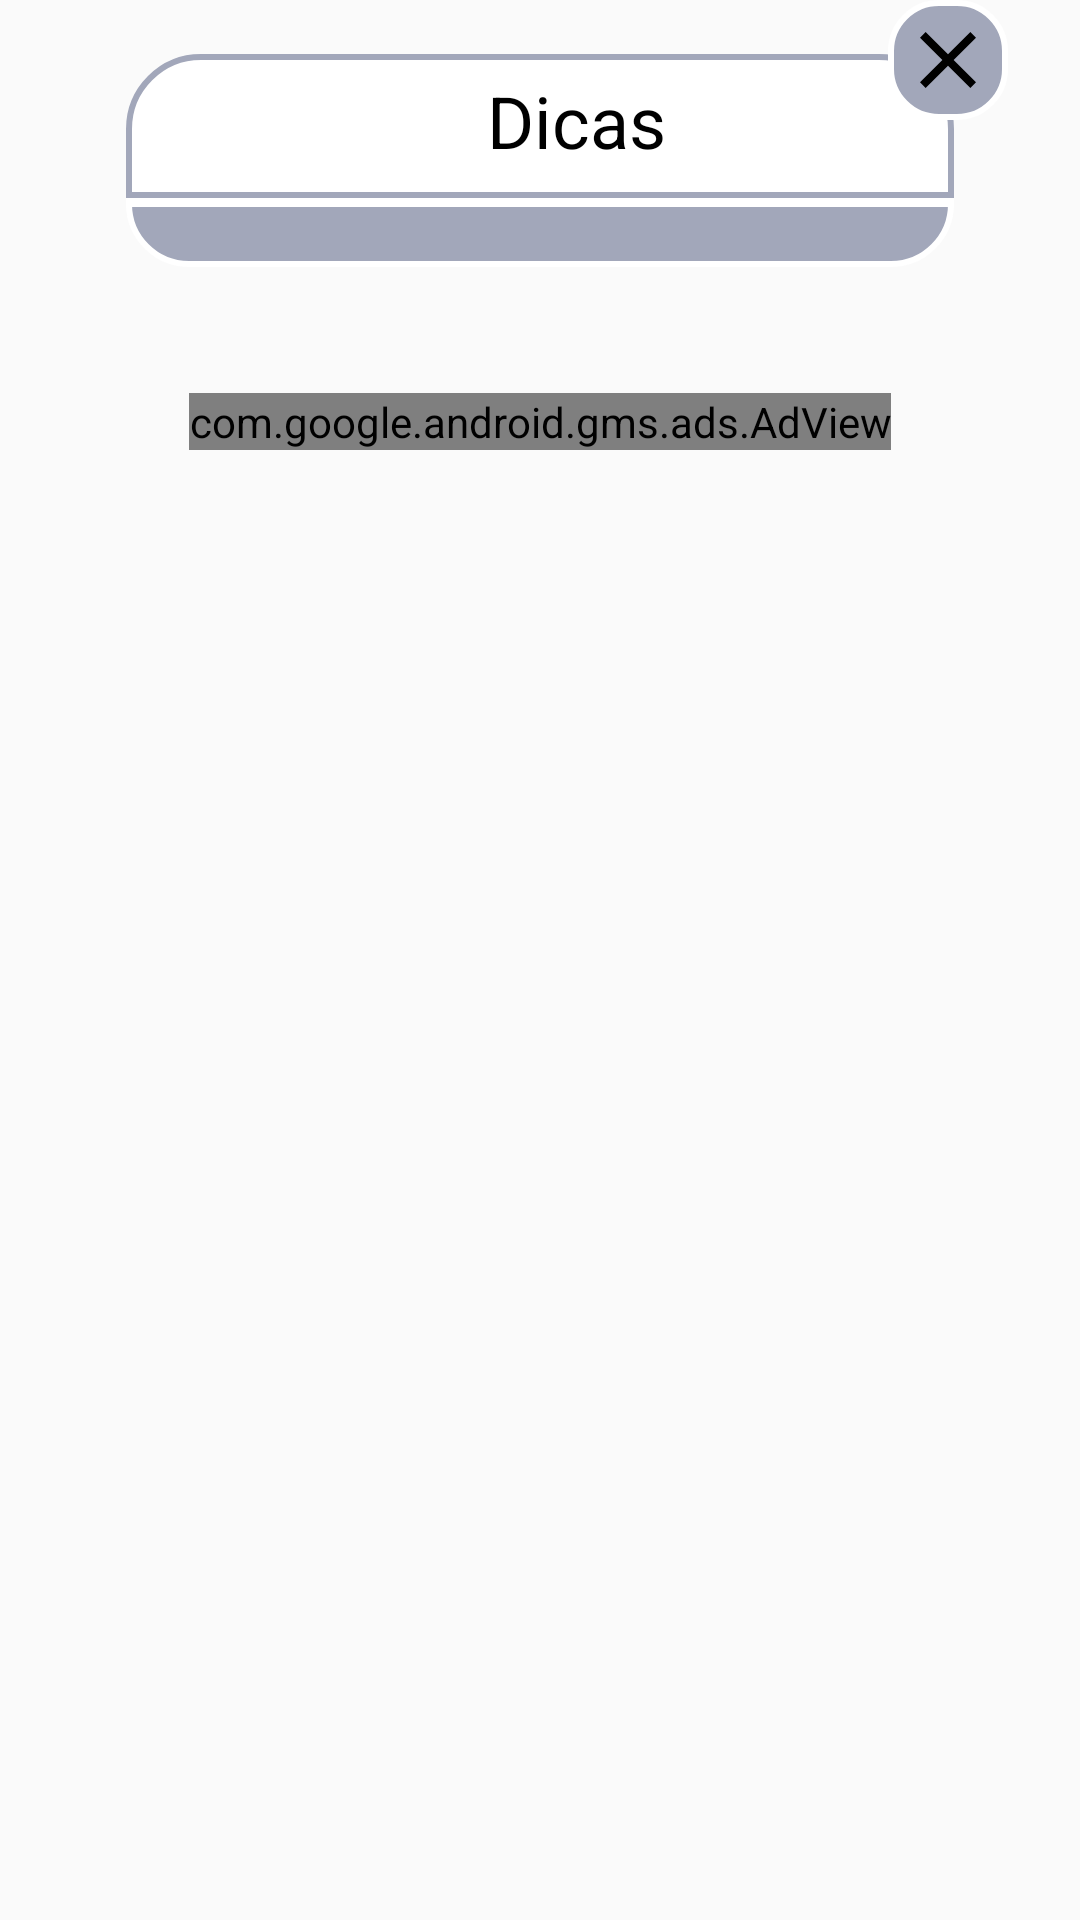

Icons on this 1080x1920 Android screen, each with the point to tap as [x,y]:
close: [948,60]
